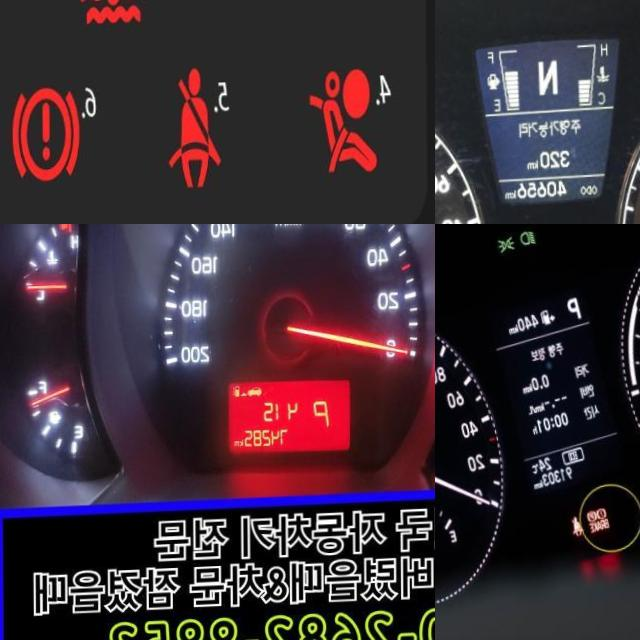Engine cooling system: (80, 0, 146, 26)
Low beam: (520, 230, 537, 250)
SideLamp: (497, 236, 517, 257)
